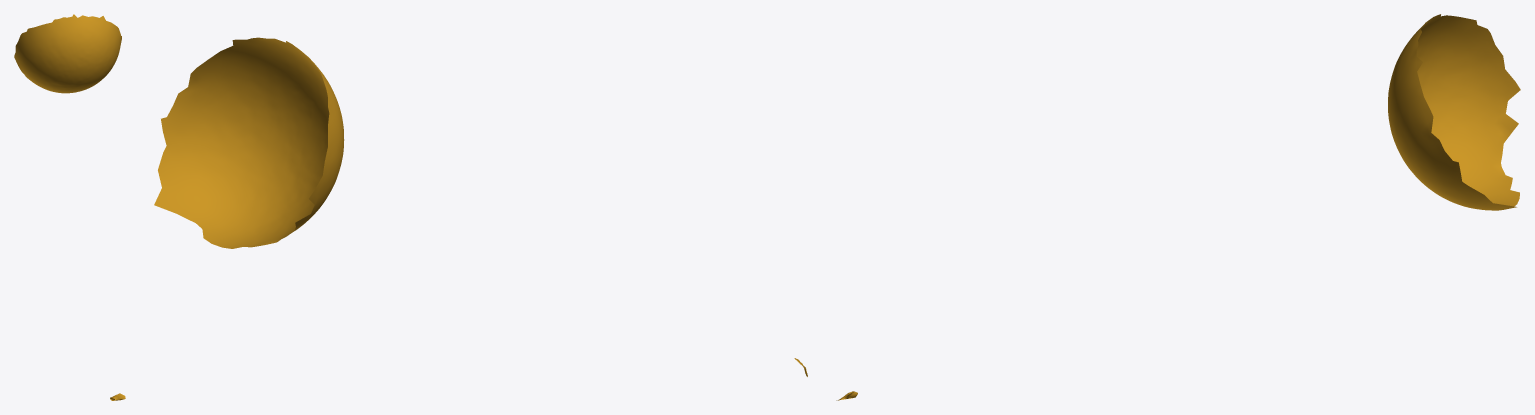
Rendered from CameraFocus_P40.000001.obj.
3 renders of one model, left to right at view 1: azimuth 30°, elevation 25°; view 2: azimuth 150°, elevation 25°; view 3: azimuth 270°, elevation 25°, orthographic. The views are drawn at different scales.
Parts seen in each view (by area): view 1: CameraFocus_P40.000001; view 2: CameraFocus_P40.000001; view 3: CameraFocus_P40.000001.
Boxes of the visible parts, x1=… form: CameraFocus_P40.000001: x1=14, y1=14, x2=125, y2=400; CameraFocus_P40.000001: x1=154, y1=37, x2=807, y2=376; CameraFocus_P40.000001: x1=836, y1=14, x2=1520, y2=400.
Bounding box in the file's own units: 278 × 398 × 514.
